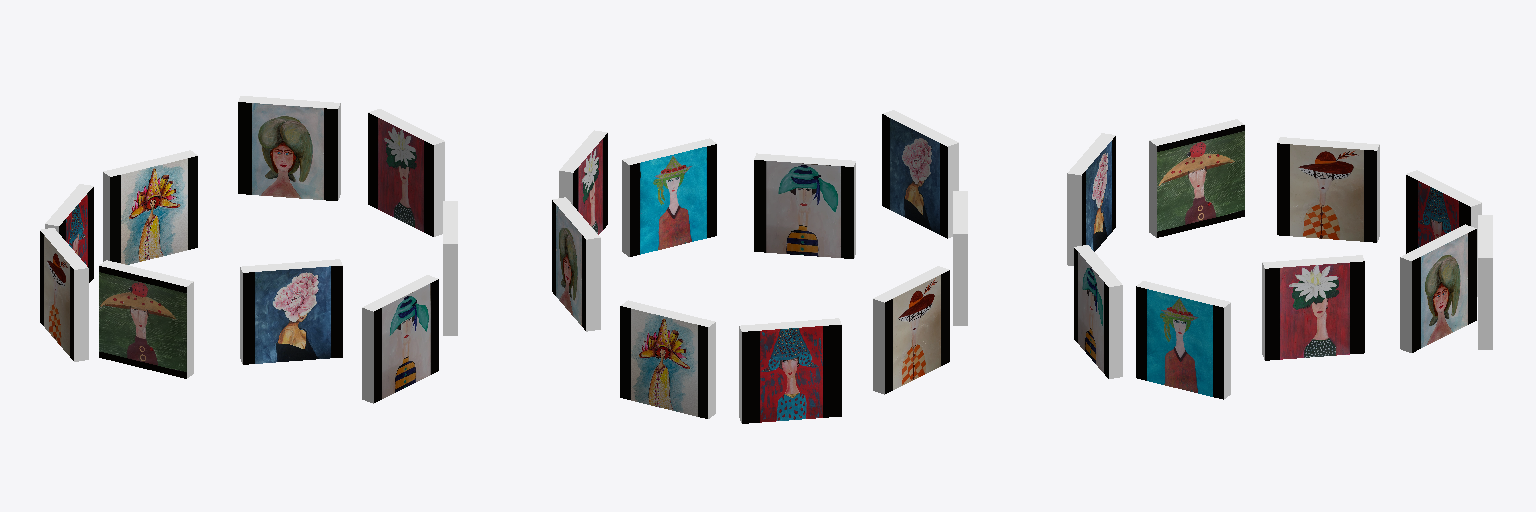
The picture shows the model from 3 angles: view 1: azimuth 30°, elevation 25°; view 2: azimuth 150°, elevation 25°; view 3: azimuth 270°, elevation 25°; orthographic projection.
Parts seen in each view (by area): view 1: Cube_6, Cube_2, Cube_7, Cube_1, Cube_5, Cube_3, Cube_8, Cube_9, Cube_4; view 2: Cube_9, Cube_5, Cube_1, Cube_4, Cube_8, Cube_6, Cube_2, Cube_3, Cube_7; view 3: Cube_3, Cube_8, Cube_7, Cube_4, Cube_2, Cube_5, Cube_6, Cube_9, Cube_1.
Part boxes in pixels (left/top/right/bottom): Cube_6: left=240, top=259, right=342, bottom=364; Cube_2: left=238, top=96, right=340, bottom=200; Cube_7: left=99, top=260, right=193, bottom=378; Cube_1: left=103, top=150, right=197, bottom=264; Cube_5: left=362, top=275, right=438, bottom=403; Cube_3: left=368, top=109, right=444, bottom=236; Cube_8: left=40, top=228, right=88, bottom=361; Cube_9: left=45, top=184, right=93, bottom=282; Cube_4: left=443, top=201, right=457, bottom=335; Cube_9: left=739, top=318, right=841, bottom=423; Cube_5: left=754, top=153, right=855, bottom=258; Cube_1: left=620, top=300, right=715, bottom=418; Cube_4: left=622, top=138, right=716, bottom=256; Cube_8: left=873, top=266, right=949, bottom=394; Cube_6: left=882, top=110, right=958, bottom=238; Cube_2: left=552, top=197, right=600, bottom=331; Cube_3: left=559, top=130, right=607, bottom=234; Cube_7: left=953, top=191, right=967, bottom=325; Cube_3: left=1262, top=255, right=1364, bottom=360; Cube_8: left=1277, top=137, right=1379, bottom=242; Cube_7: left=1149, top=119, right=1244, bottom=237; Cube_4: left=1136, top=281, right=1230, bottom=399; Cube_2: left=1400, top=224, right=1476, bottom=352; Cube_5: left=1074, top=245, right=1122, bottom=378; Cube_6: left=1067, top=133, right=1115, bottom=265; Cube_9: left=1406, top=170, right=1481, bottom=296; Cube_1: left=1478, top=215, right=1492, bottom=349.
Bounding box in the file's own units: 1240 × 495 × 1257.
10 materials, 9 textured.